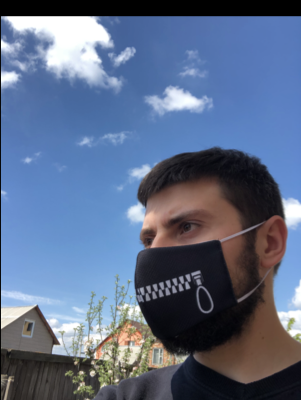with_mask: (133, 205, 243, 357)
